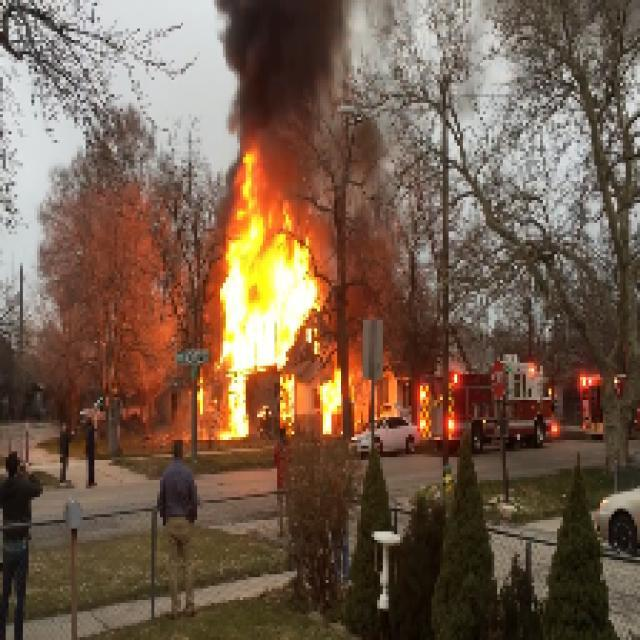Fire: (166, 148, 346, 424)
